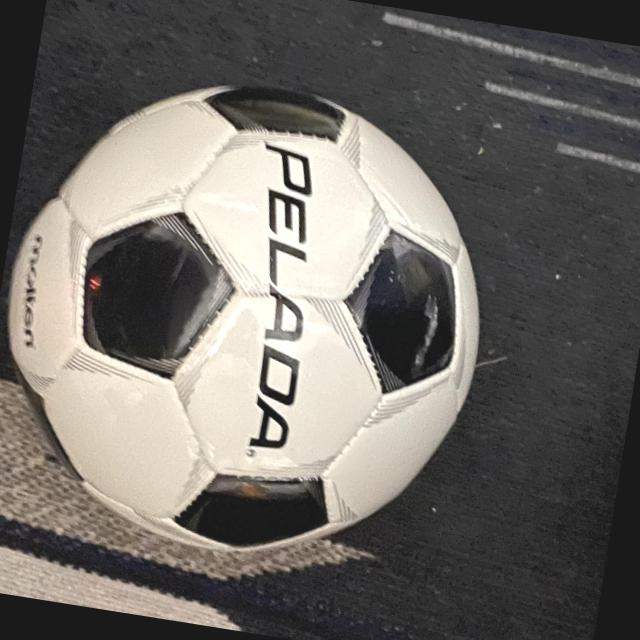Soccer Ball: (0, 48, 515, 591)
